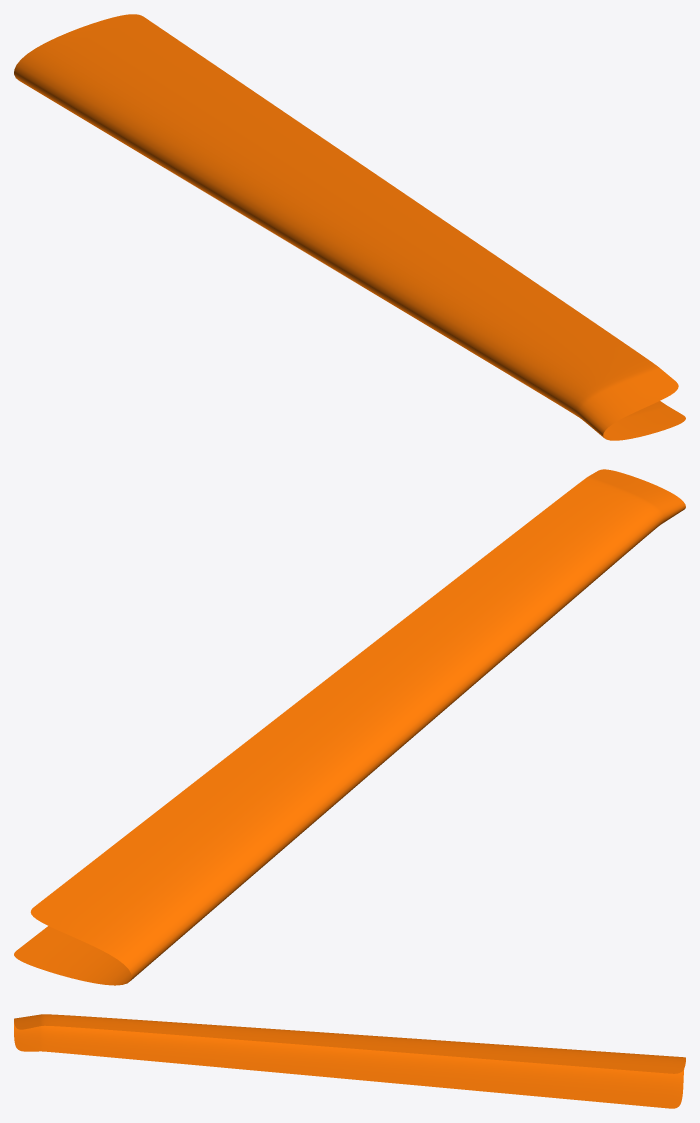
Rendered from alti_transition_aileron_right.dae.
3 views of the same model, one above another, from view 1: azimuth 30°, elevation 25°; view 2: azimuth 150°, elevation 25°; view 3: azimuth 270°, elevation 25° (orthographic). The views are drawn at different scales.
Visible parts, largest first — view 1: ~CS_AIL_R.002; view 2: ~CS_AIL_R.002; view 3: ~CS_AIL_R.002.
Part boxes in pixels (<box>): ~CS_AIL_R.002: <box>14,14,685,440</box>; ~CS_AIL_R.002: <box>14,469,685,985</box>; ~CS_AIL_R.002: <box>14,1014,685,1108</box>.
Bounding box in the file's own units: 0.0723 × 0.5288 × 0.0596.
Materials: 1 (1 with a texture image).
